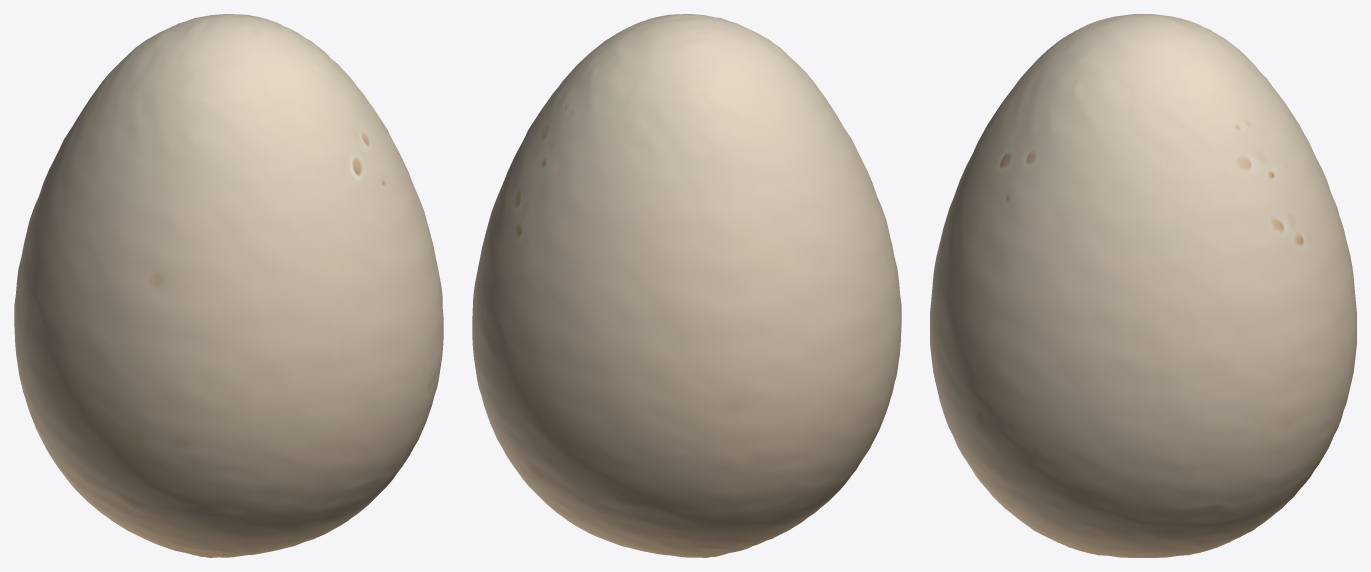
File: big_egg.glb
3 views of the same model, side by side, from view 1: azimuth 30°, elevation 25°; view 2: azimuth 150°, elevation 25°; view 3: azimuth 270°, elevation 25° (orthographic).
Parts seen in each view (by area): view 1: tripo_node_03fea0f3-74cc-4768-8321-4a8b0f0da43a; view 2: tripo_node_03fea0f3-74cc-4768-8321-4a8b0f0da43a; view 3: tripo_node_03fea0f3-74cc-4768-8321-4a8b0f0da43a.
Boxes of the visible parts, x1,y1,x2,y2 form: tripo_node_03fea0f3-74cc-4768-8321-4a8b0f0da43a: (14,14,443,557); tripo_node_03fea0f3-74cc-4768-8321-4a8b0f0da43a: (472,14,901,557); tripo_node_03fea0f3-74cc-4768-8321-4a8b0f0da43a: (930,14,1356,557).
Bounding box in the file's own units: 0.7558 × 0.998 × 0.7558.
1 material, 1 textured.
